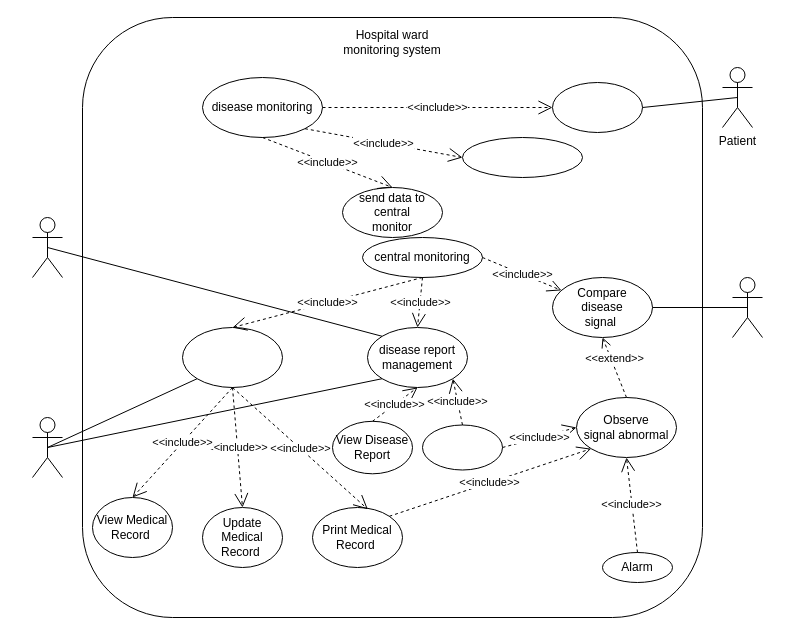
The diagram is 789 pixels wide and 635 high, and some of its shapes have lost their labels. The shapes that lost their labels are listed below. From the top down, each one's centre as x and y in pixels, then its label:
At (597,107): "Collecting disease signals".
At (522,157): "formatting signals".
At (47,247): "Duty Nurse".
At (747,307): "Standard Signal Library".
At (232,357): "medical record management".
At (47,447): "Doctor".
At (462,447): "Print Disease Report".
